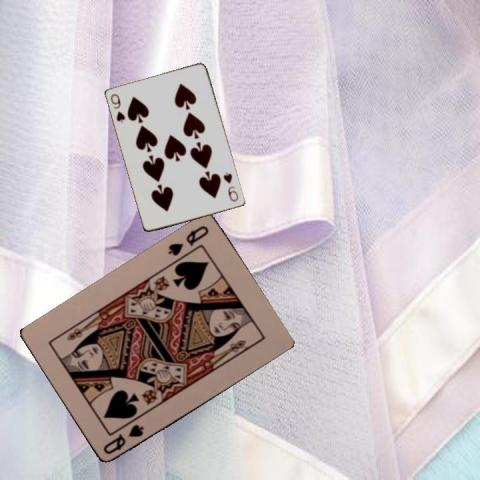9s: (221, 170, 240, 204), (108, 91, 127, 124)
Qs: (100, 421, 145, 457), (165, 223, 210, 258)
